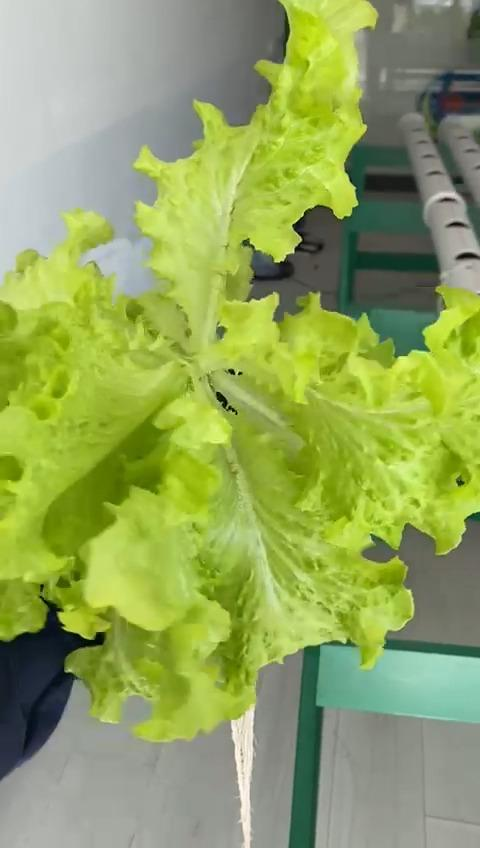Healthy: (0, 0, 480, 748)
